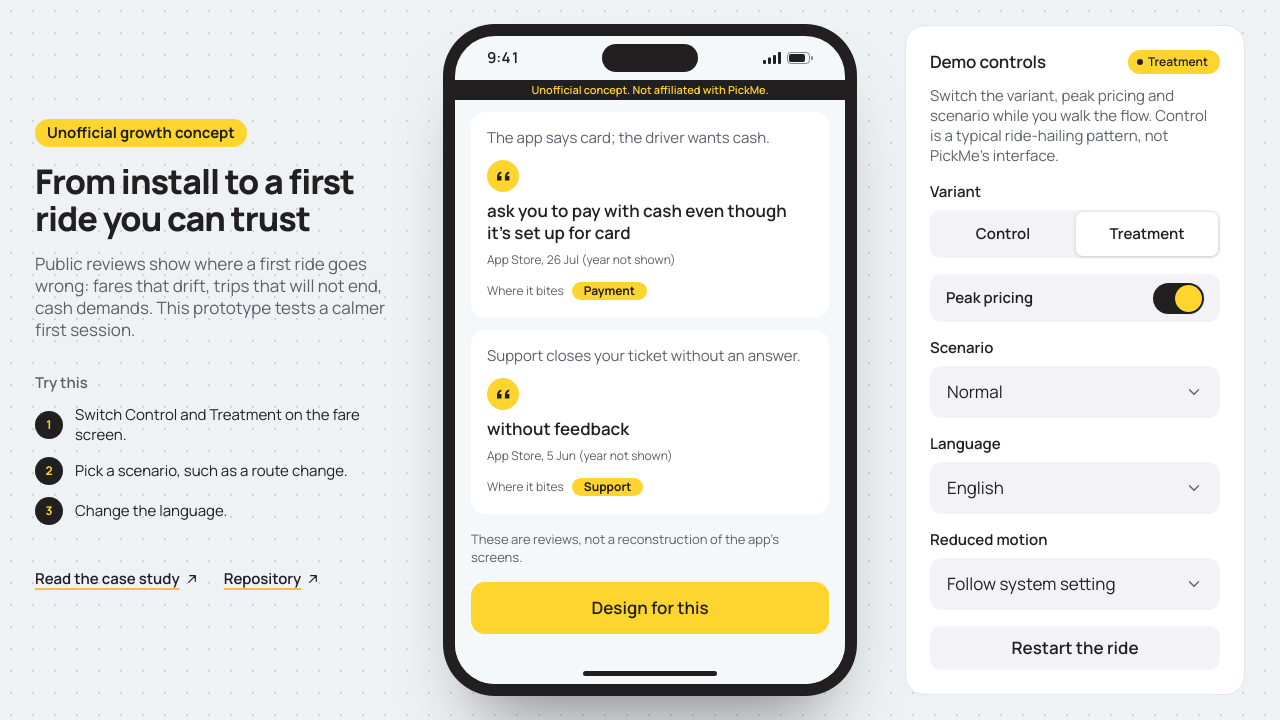
Test: Problem screen › "Design for this" starts the flow at Welcome
The width and height of the screenshot is (1280, 720).
(page scrolled)
Click the link "Design for this": (650, 608) [471,582,829,634]
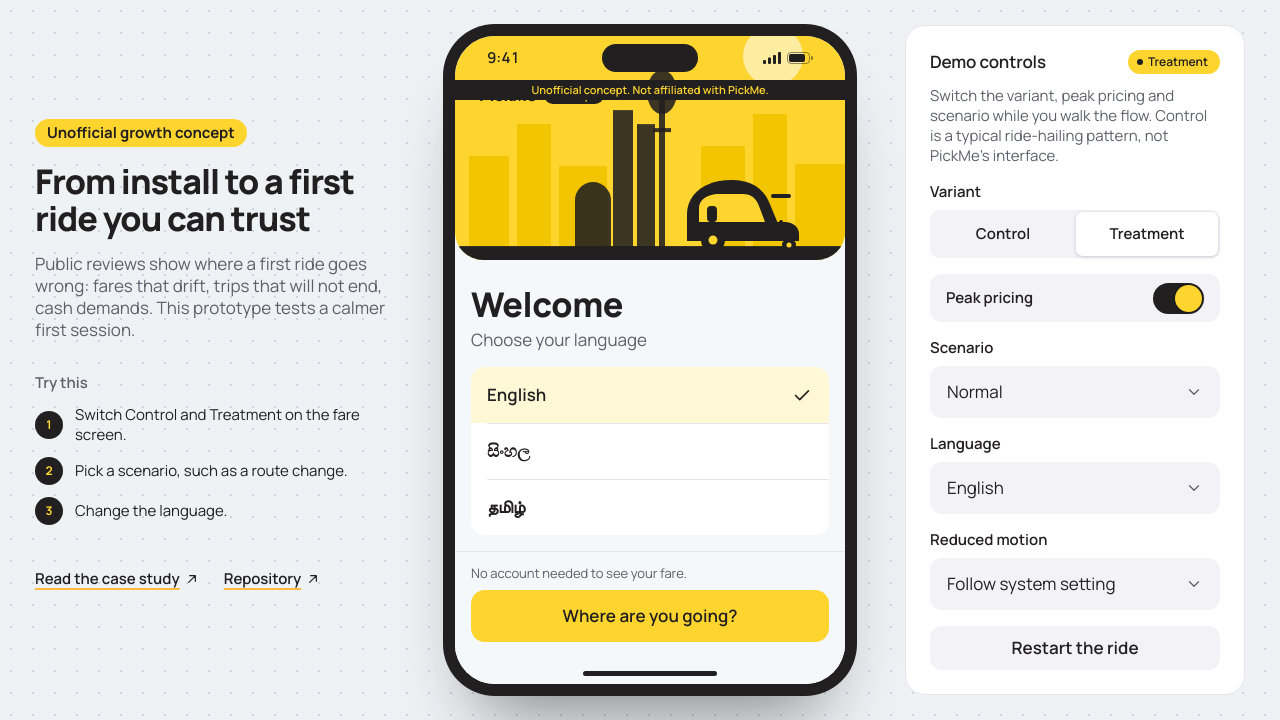
Expected: the heading "Welcome" is shown, [471,281,623,327]
